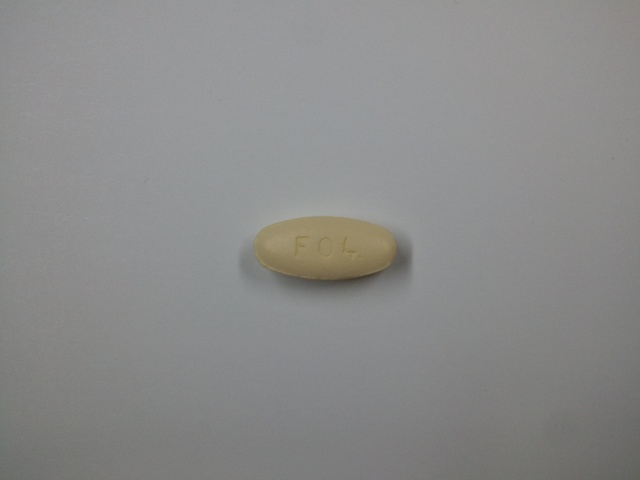0: (313, 232, 337, 263)
4: (339, 232, 365, 265)
F: (291, 232, 313, 263)
